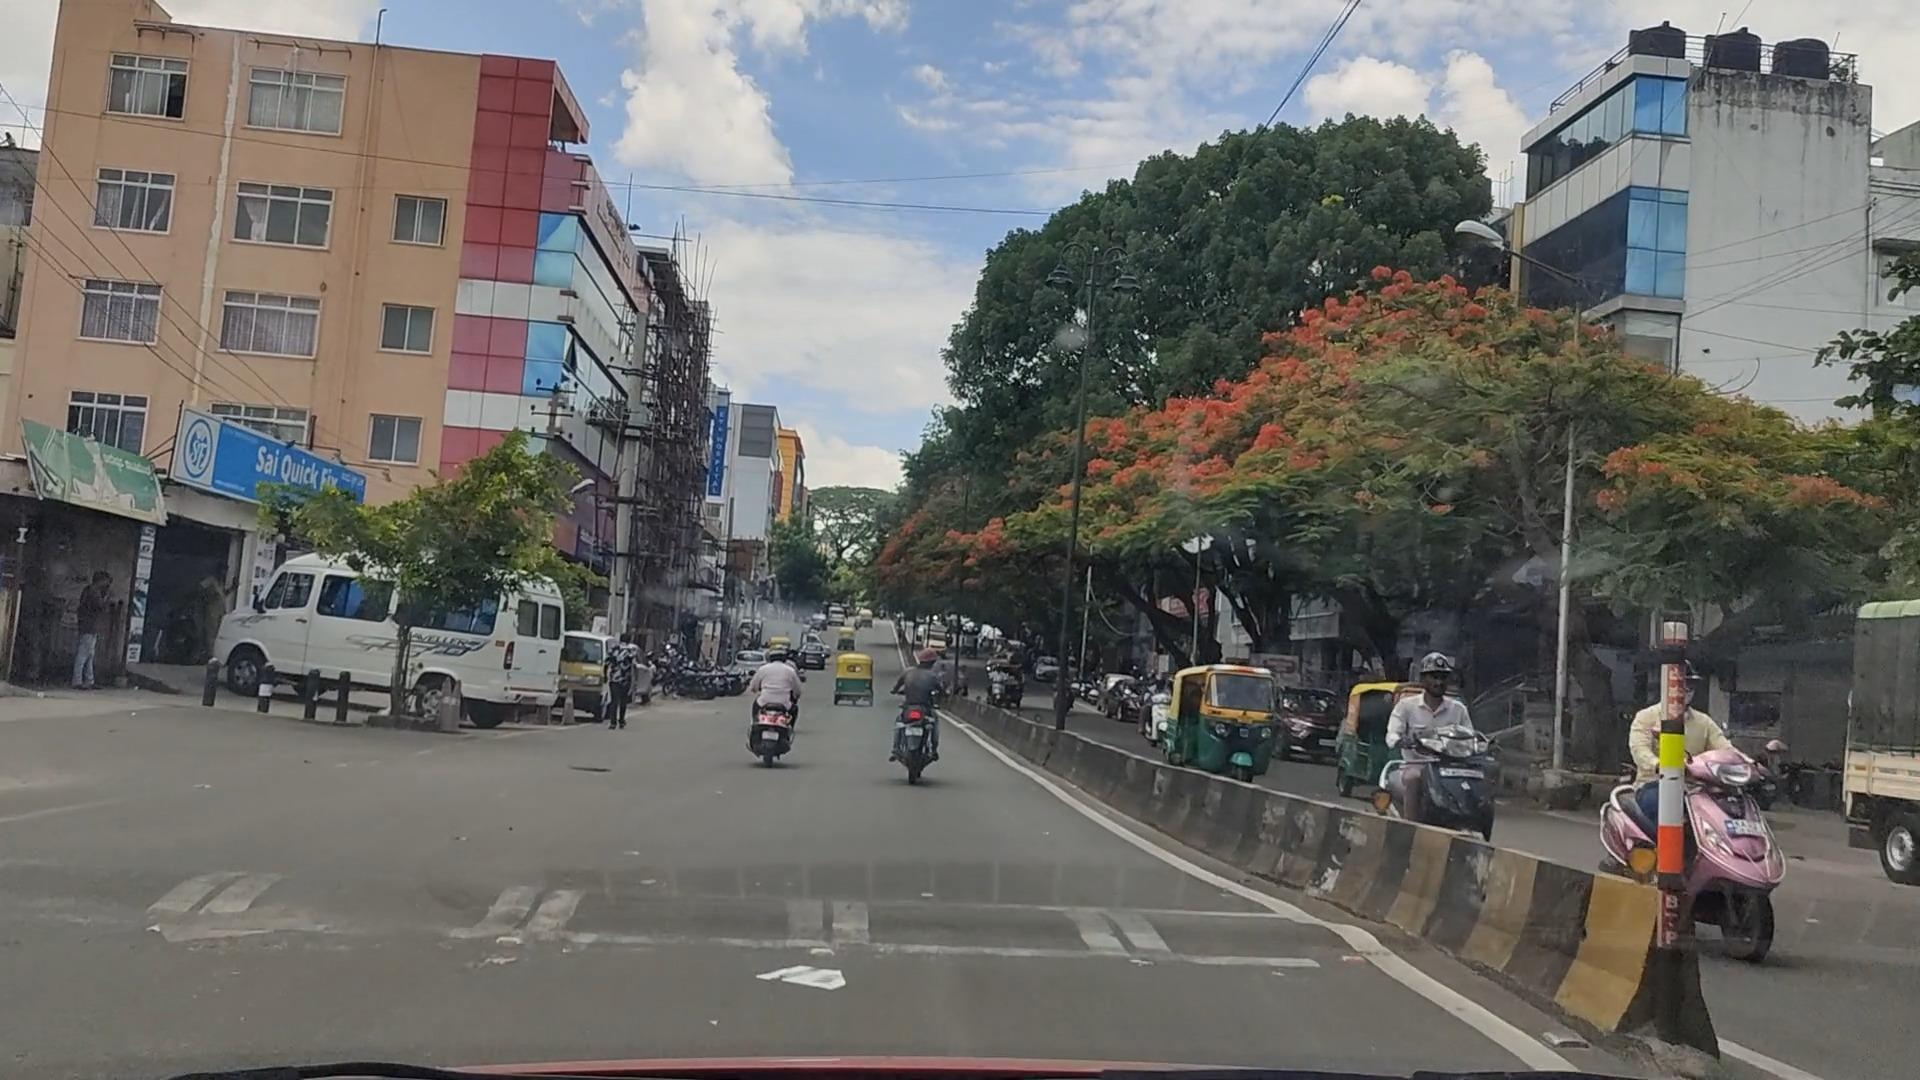SpeedBump: (0, 865, 1349, 972)
